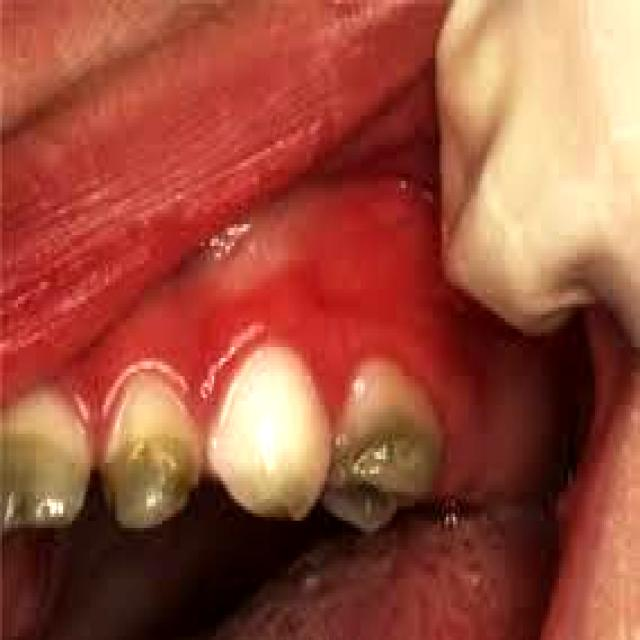tooth-discoloration: (106, 405, 198, 528), (322, 430, 437, 528), (0, 419, 88, 528)
